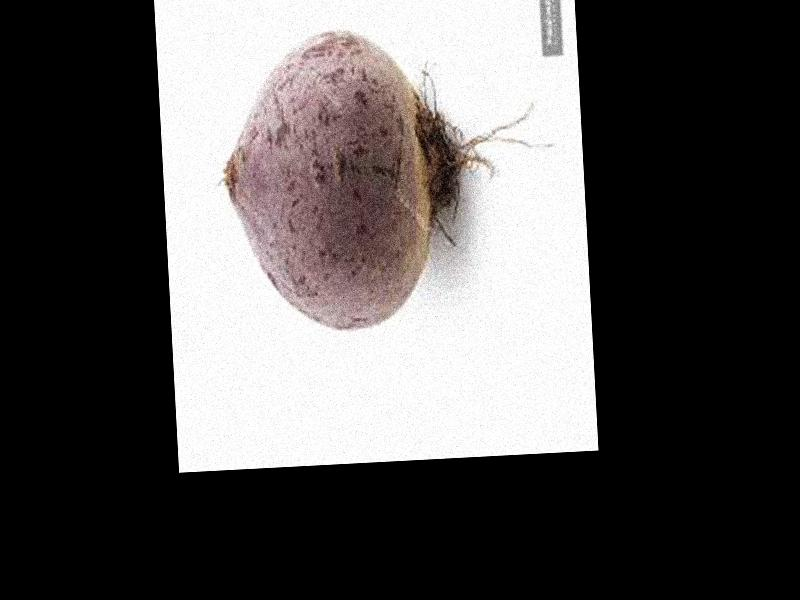Beet: (214, 16, 563, 337)
